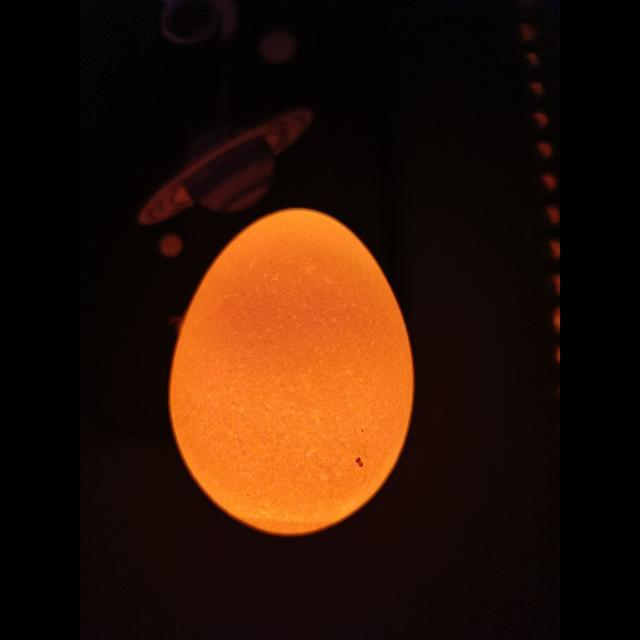AA - Premium: (170, 209, 414, 535)
